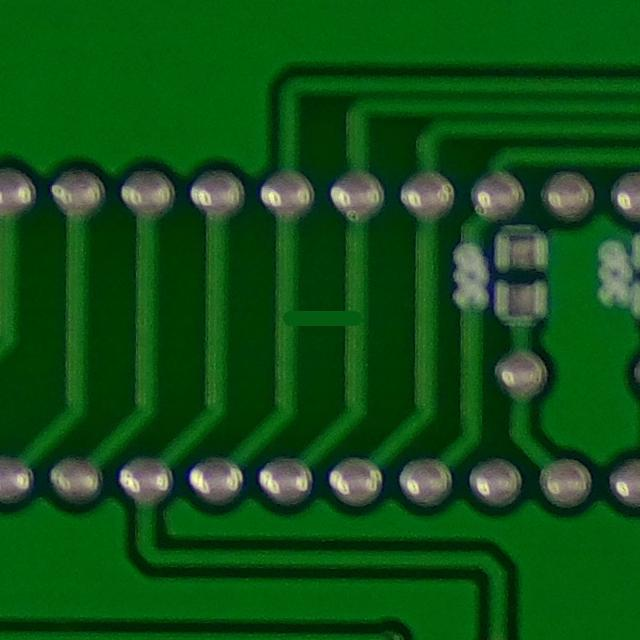short: (267, 285, 373, 355)
